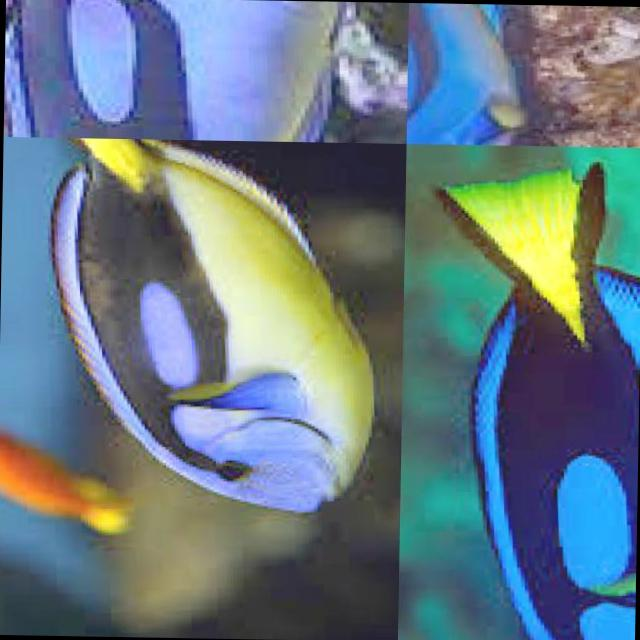BlueTang: (46, 135, 379, 513), (427, 174, 640, 640), (406, 2, 530, 144)
